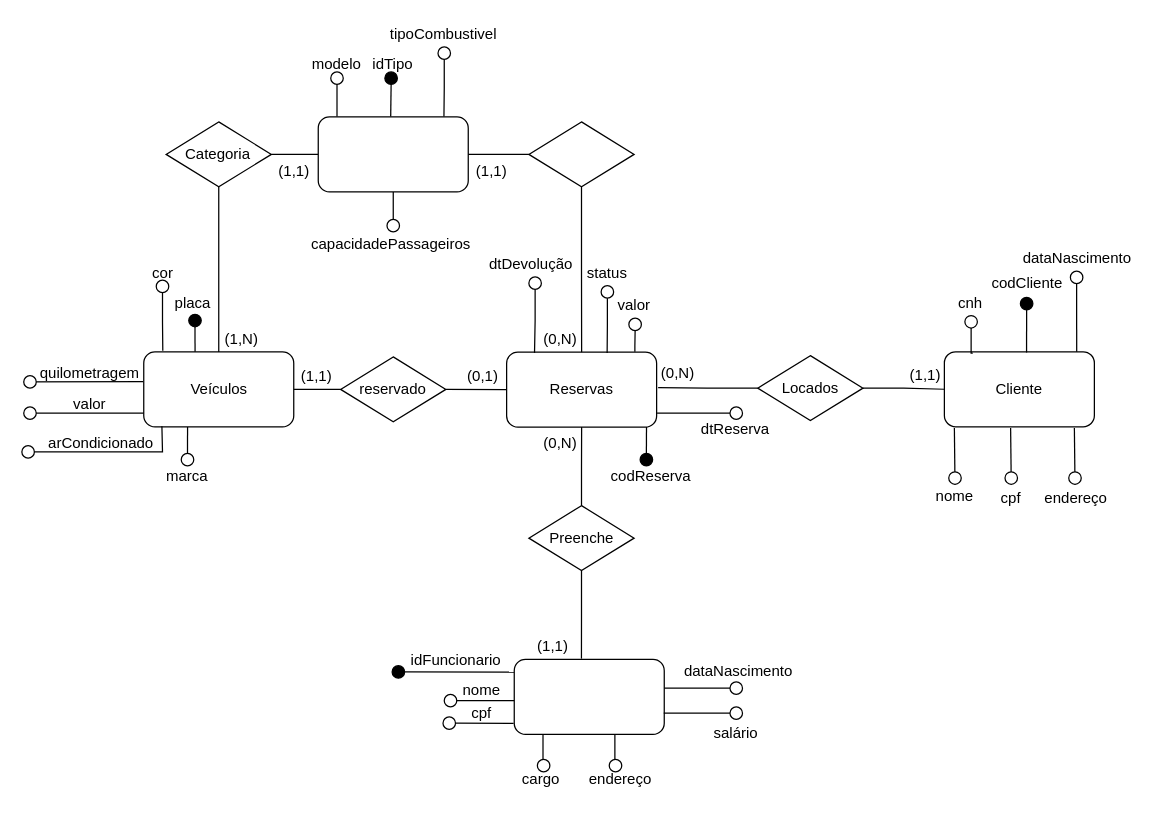
The diagram is 1153 pixels wide and 813 high, and some of its shapes have lost their labels. Here are the shapes that lost their labels. From the top down, the centre of each, then its label:
At pixel 392 154: "Tipo de Veículos".
At pixel 581 154: "Opção".
At pixel 588 696: "Funcionários".
